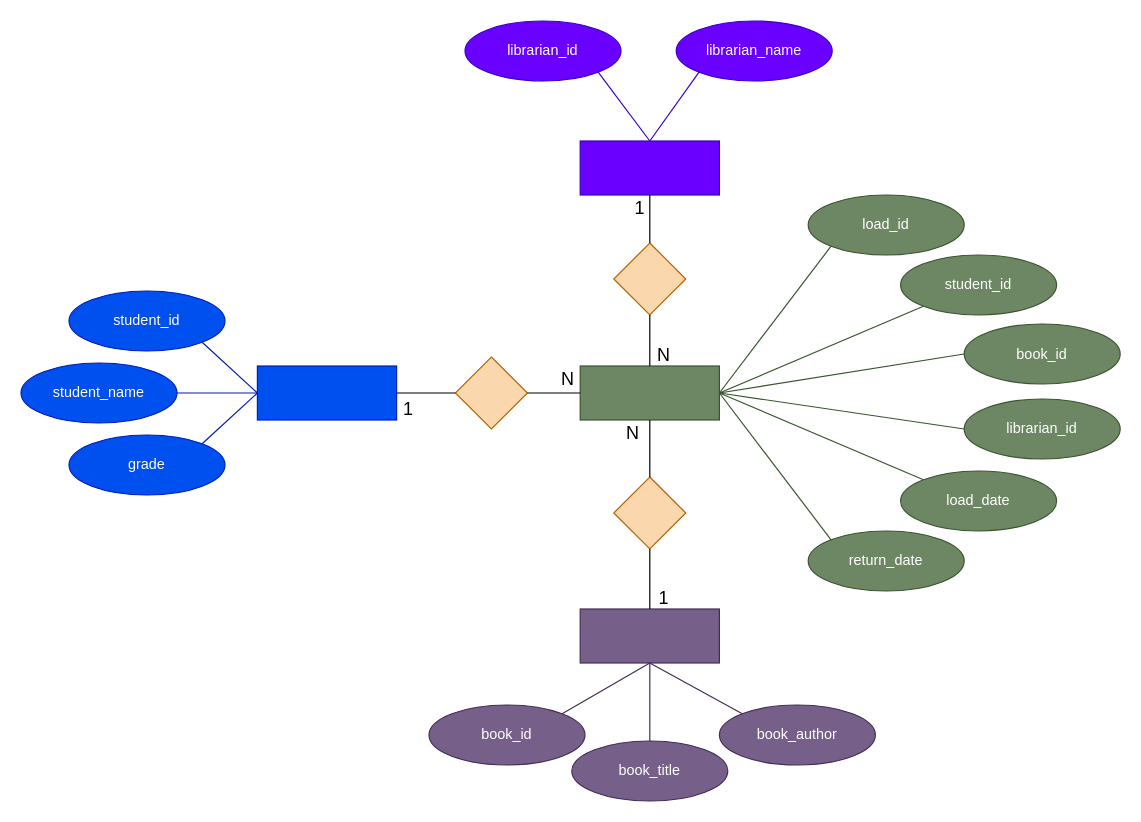
Some shapes in this 1141 by 822 pixel diagram are drawn without their labels. The centre of each missing label's shape, as x and y in pixels:
"books" belongs at pixel 649 635.
"librarian" belongs at pixel 649 167.
"loans" belongs at pixel 649 392.
"students" belongs at pixel 326 392.
